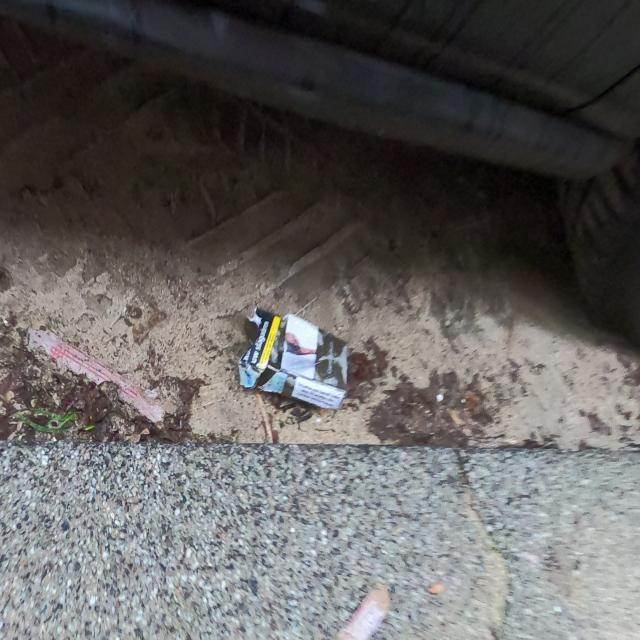Paper: (237, 302, 351, 416)
Plastic: (23, 326, 166, 426)
